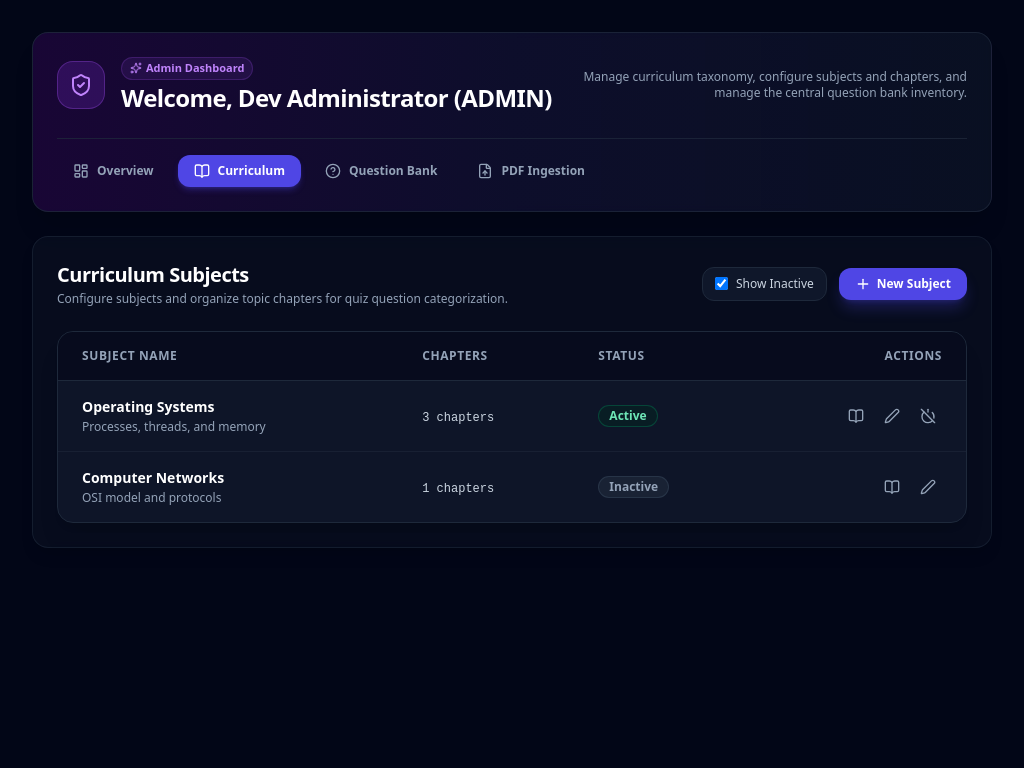
Admin Subject & Chapter Management UI (PROMPT 11) › shows create form validation errors on empty or invalid inputs
Expected: the text "New Subject" is shown, [877,276,951,292]
Open modal
Click the button "New Subject": (903, 284) [839,268,967,300]
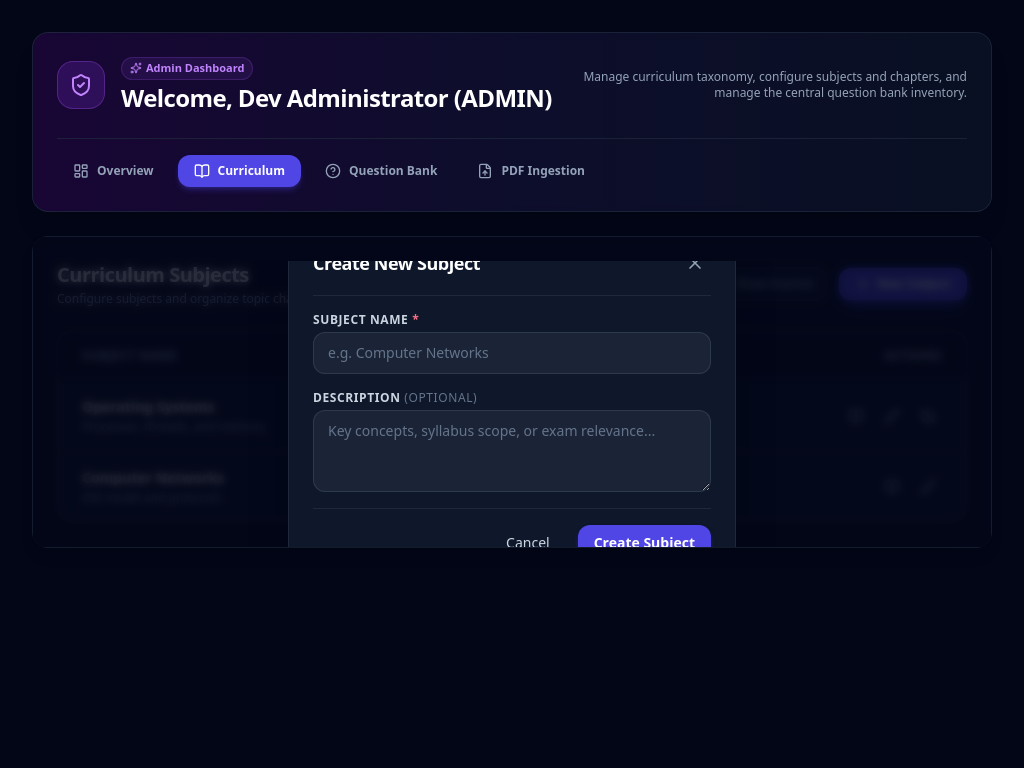
Expected: the dialog is shown, [33,260,991,546]
Try submitting with empty name
Click the button "Create Subject": (644, 542) [578,524,711,560]
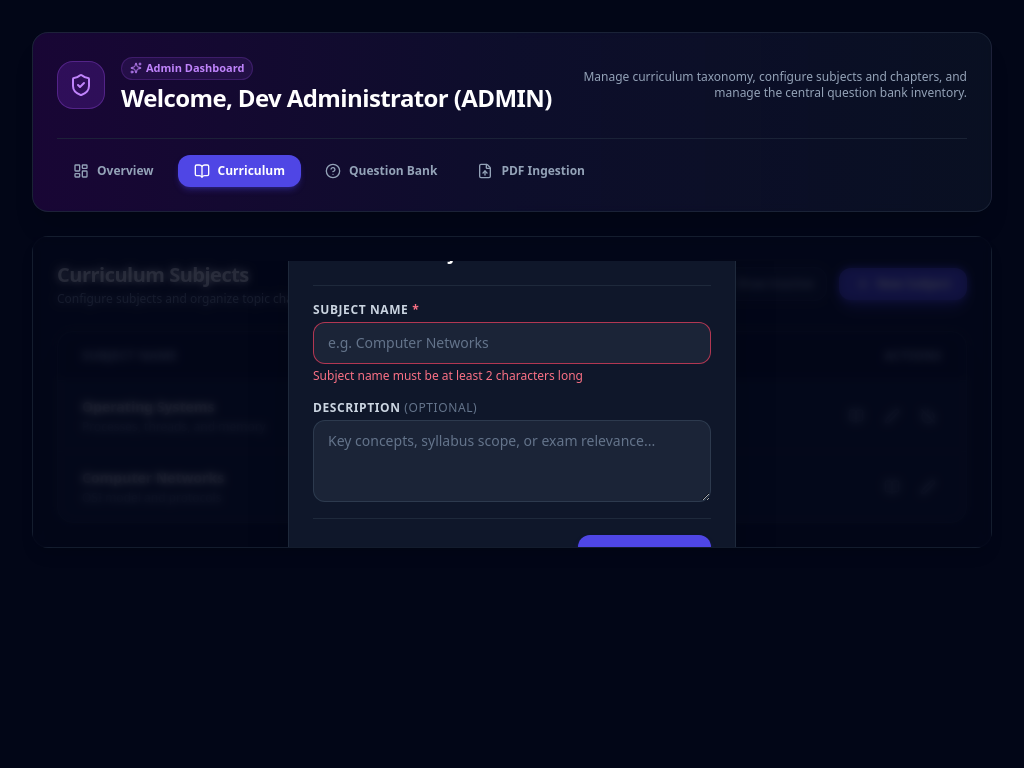
Expected: the text "Subject name must be at least 2 characters long" is shown, [313,366,583,384]
